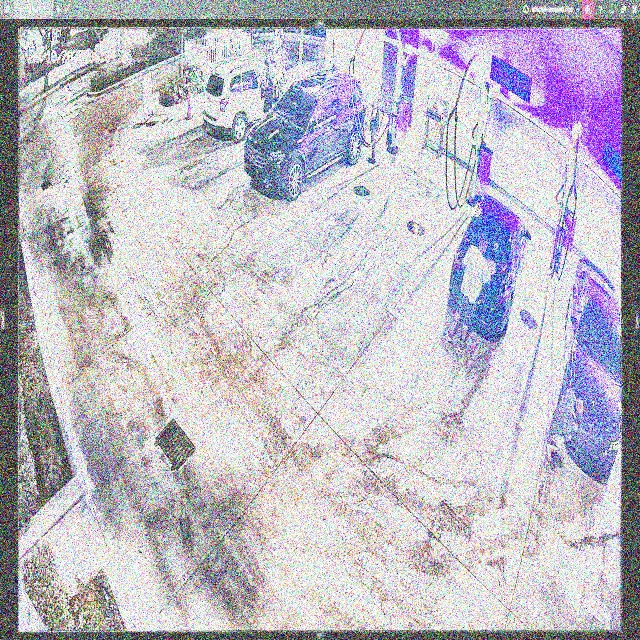Car: (243, 68, 367, 197), (452, 194, 529, 336)
